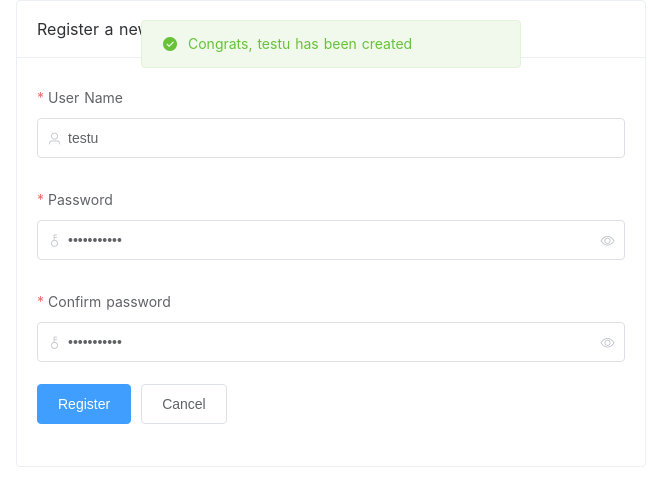
Scenario: Auth register page › Auth Register Error › Register button works, validation errors, password should contain a special symbol
Click the button "Register" at point(84, 404), box [37,384,131,424]
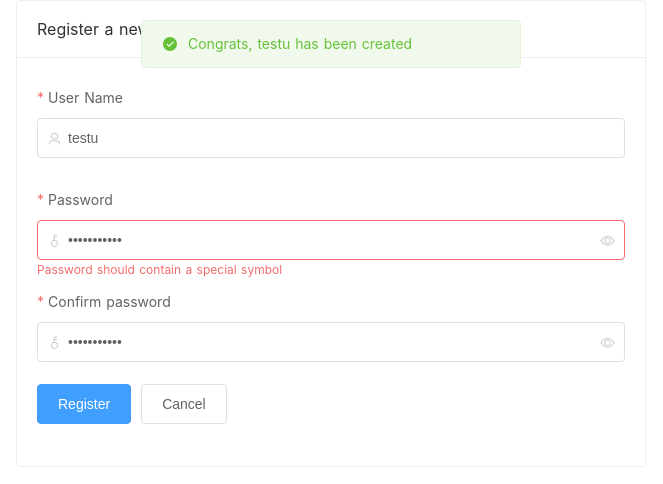
expect the text "Password should contain a special symbol" is shown: met, box [37,260,282,276]
